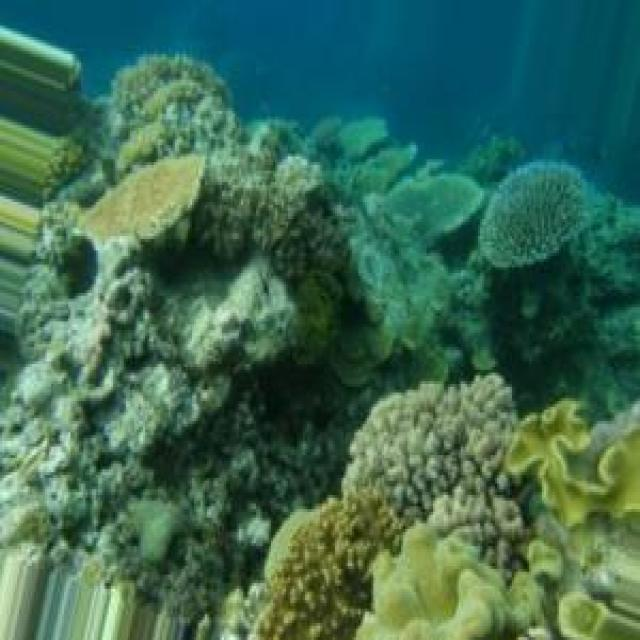healthy coral: (344, 375, 525, 568), (255, 493, 402, 638), (356, 523, 509, 638), (509, 400, 640, 526), (108, 55, 236, 171), (479, 162, 582, 269), (84, 155, 202, 238), (559, 553, 640, 638)
